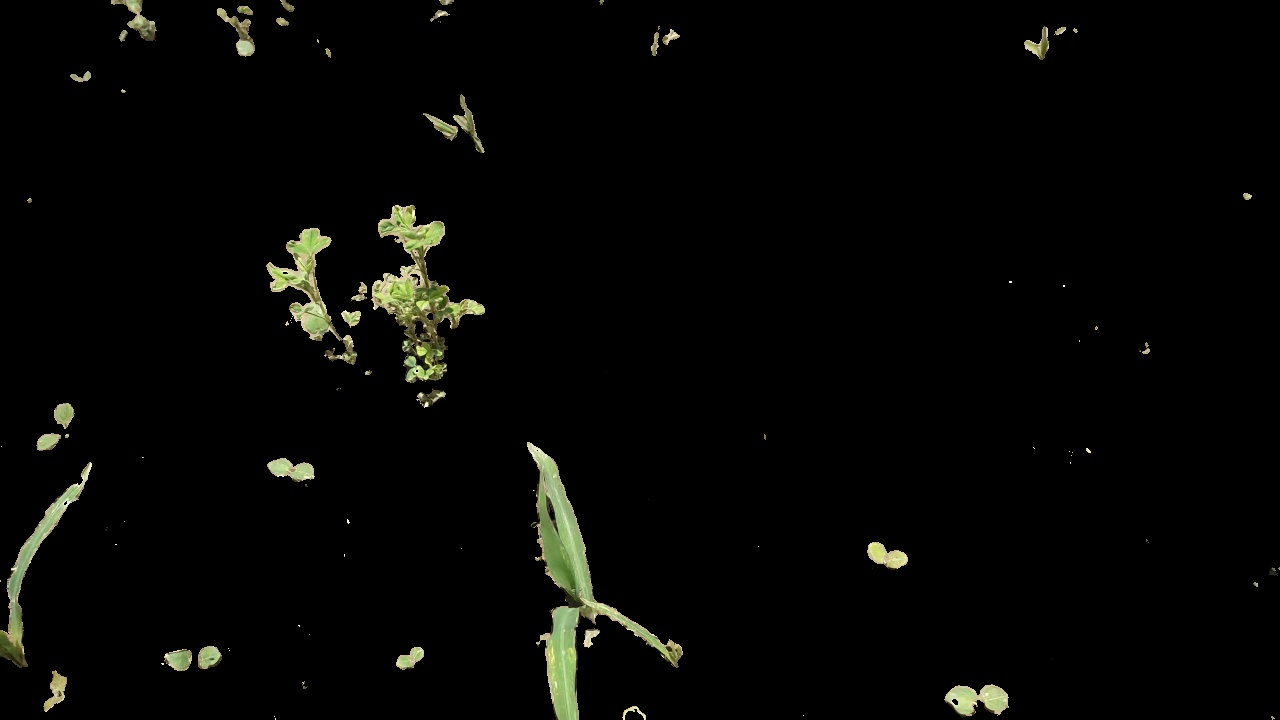crop: (524, 441, 683, 678), (1, 461, 93, 667)
weed: (371, 196, 486, 404), (270, 225, 368, 377), (420, 92, 492, 156), (939, 675, 1015, 720), (100, 1, 176, 46), (216, 3, 264, 63), (34, 391, 78, 451), (159, 640, 228, 674), (1023, 20, 1080, 61), (864, 541, 912, 575), (266, 457, 321, 486), (40, 668, 70, 713), (391, 644, 433, 669), (616, 702, 656, 720), (70, 69, 96, 85)
